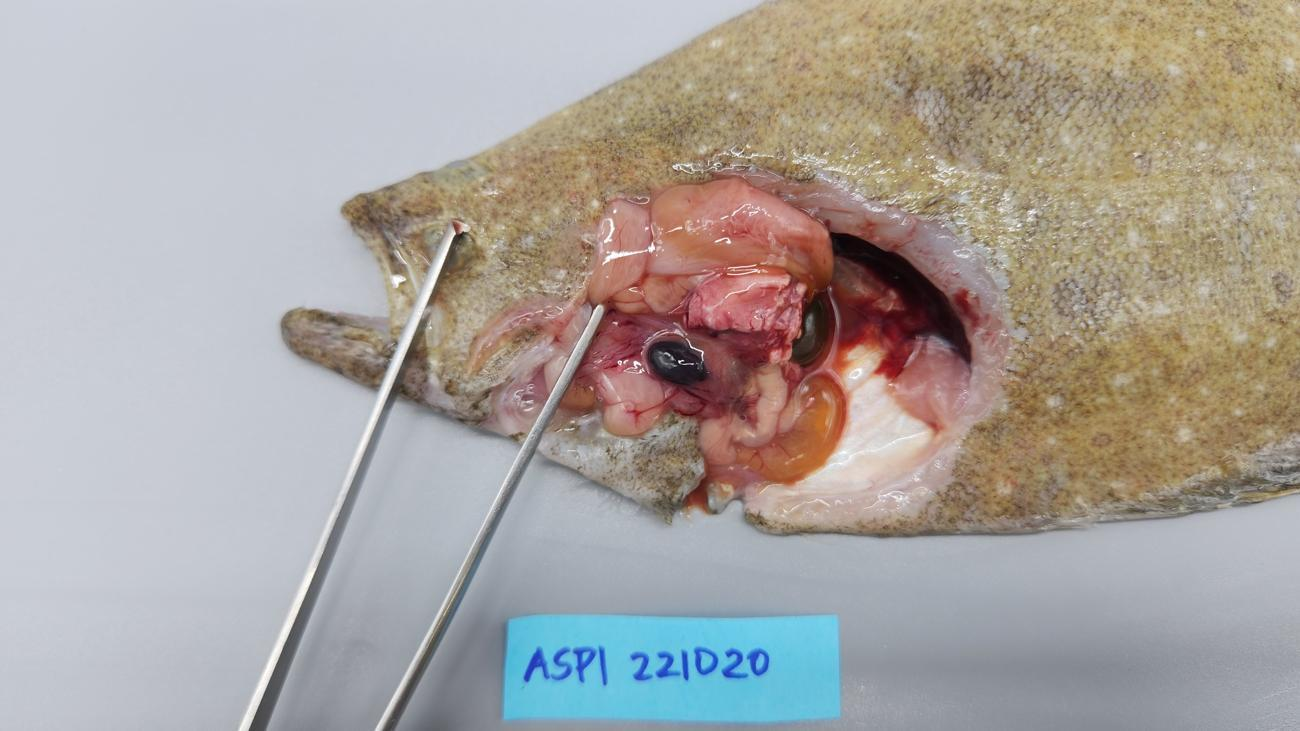SPINH: (711, 215, 755, 239)
SPINI: (675, 178, 833, 267)
SPSPE: (648, 341, 707, 384)
